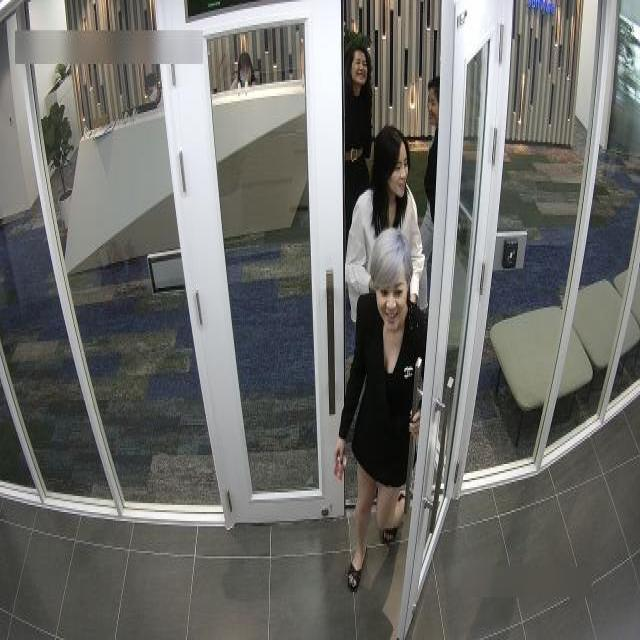bare_hand: (329, 432, 352, 485), (406, 400, 423, 452)
